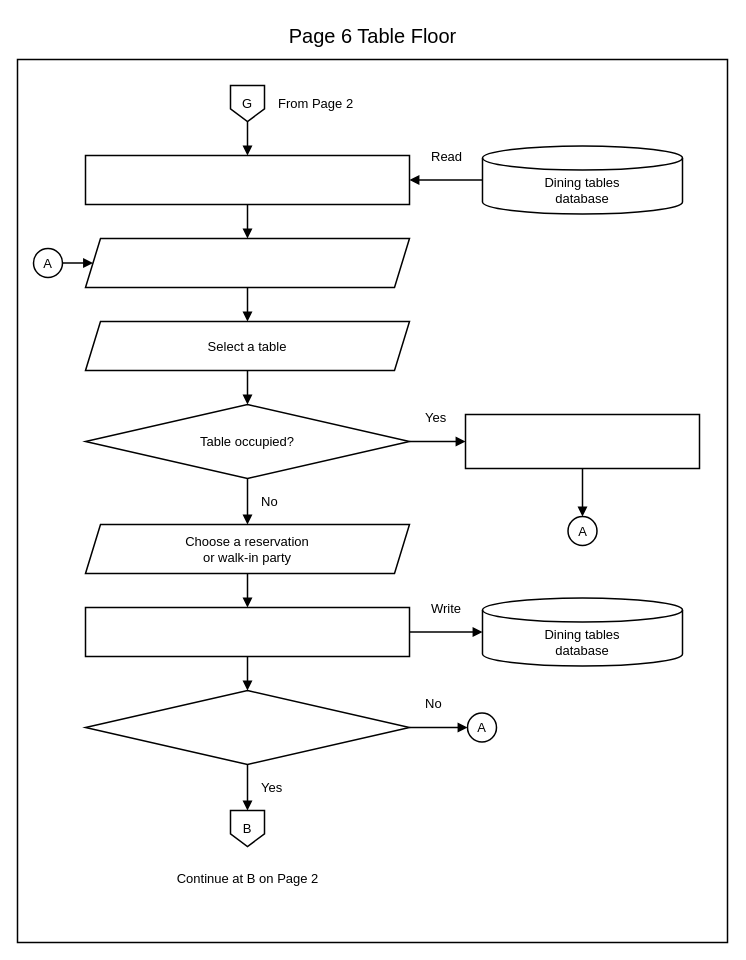
The diagram is 746 pixels wide and 960 high, and some of its shapes have lost their labels. Here are the shapes that lost their labels. From the top down, the centre of each, then its label:
At (247,179): "Retrieve tables and today's bookings".
At (247,262): "Display table floor".
At (582,441): "Mark the table free".
At (247,631): "Mark the table occupied".
At (247,727): "Finished here?".
